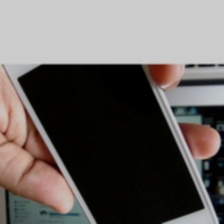phone: (0, 26, 221, 224)
